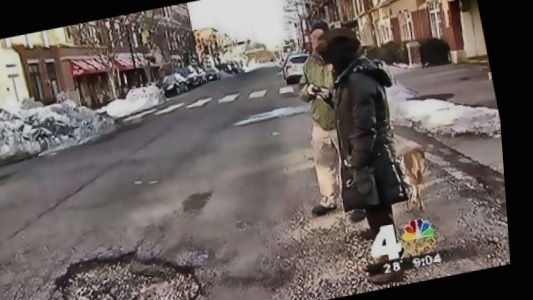pothole: (46, 233, 208, 300)
